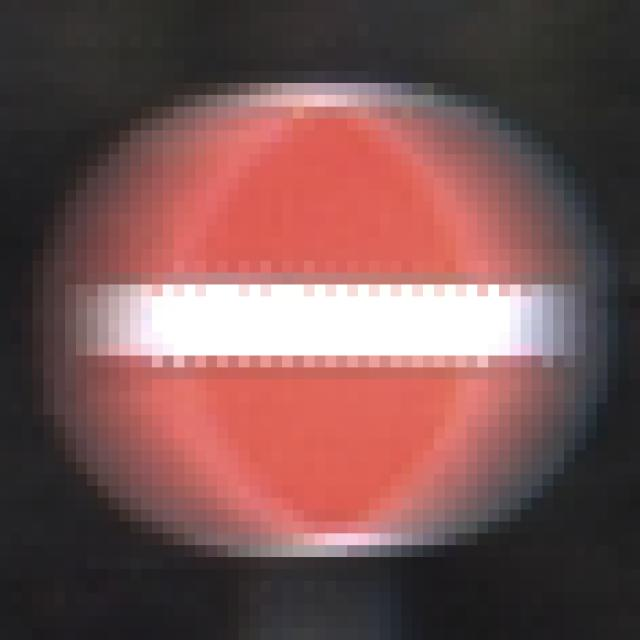No Entry: (55, 60, 587, 582)
